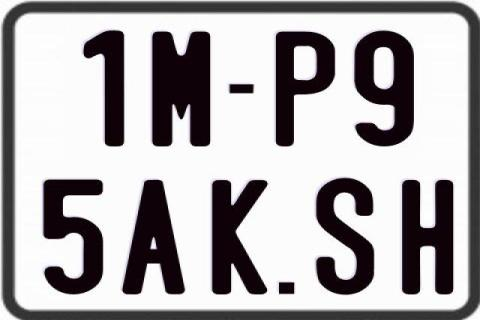0: (352, 28, 417, 149), (40, 179, 100, 295), (83, 30, 127, 146)
A: (122, 178, 190, 292)
H: (402, 179, 456, 295)
K: (209, 179, 270, 297)
M: (152, 32, 212, 152)
P: (275, 31, 338, 149)
S: (315, 177, 378, 293)
